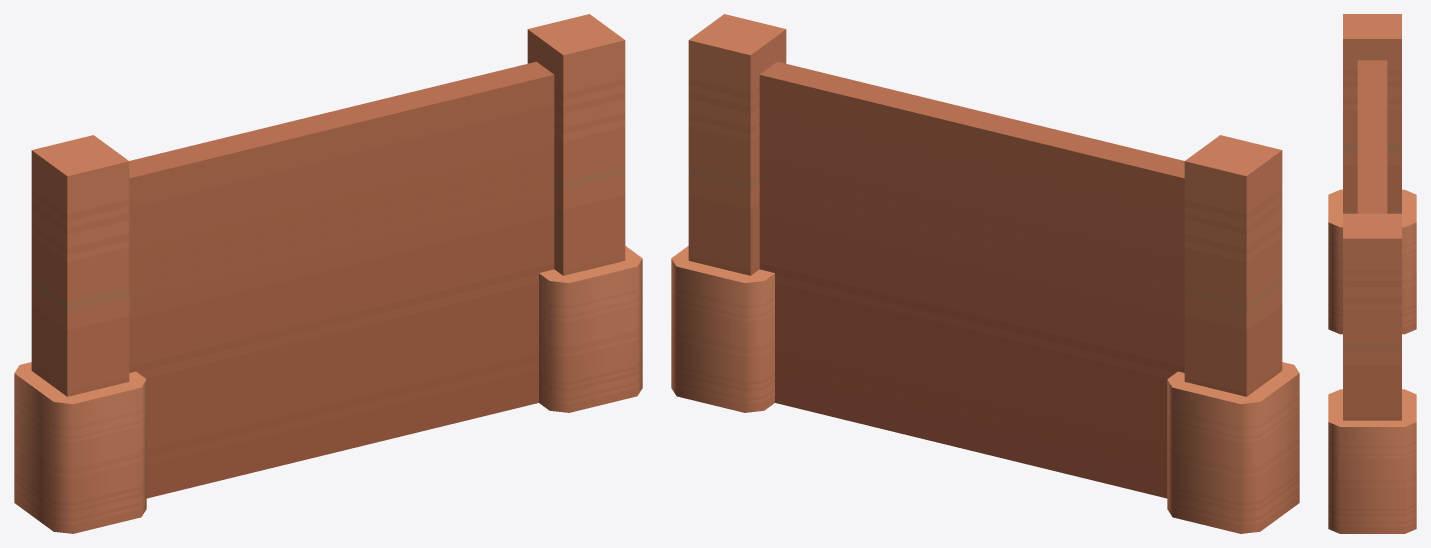
Rendered from fence.glb.
3 views of the same model, side by side, from view 1: azimuth 30°, elevation 25°; view 2: azimuth 150°, elevation 25°; view 3: azimuth 270°, elevation 25° (orthographic). The views are drawn at different scales.
Parts seen in each view (by area): view 1: fence; view 2: fence; view 3: fence.
Part boxes in pixels (<box>): fence: <box>14,14,642,533</box>; fence: <box>671,14,1299,533</box>; fence: <box>1328,14,1416,533</box>.
Size of the model in its own units: 1.9 by 1.08 by 0.2999.
1 material, 1 textured.
